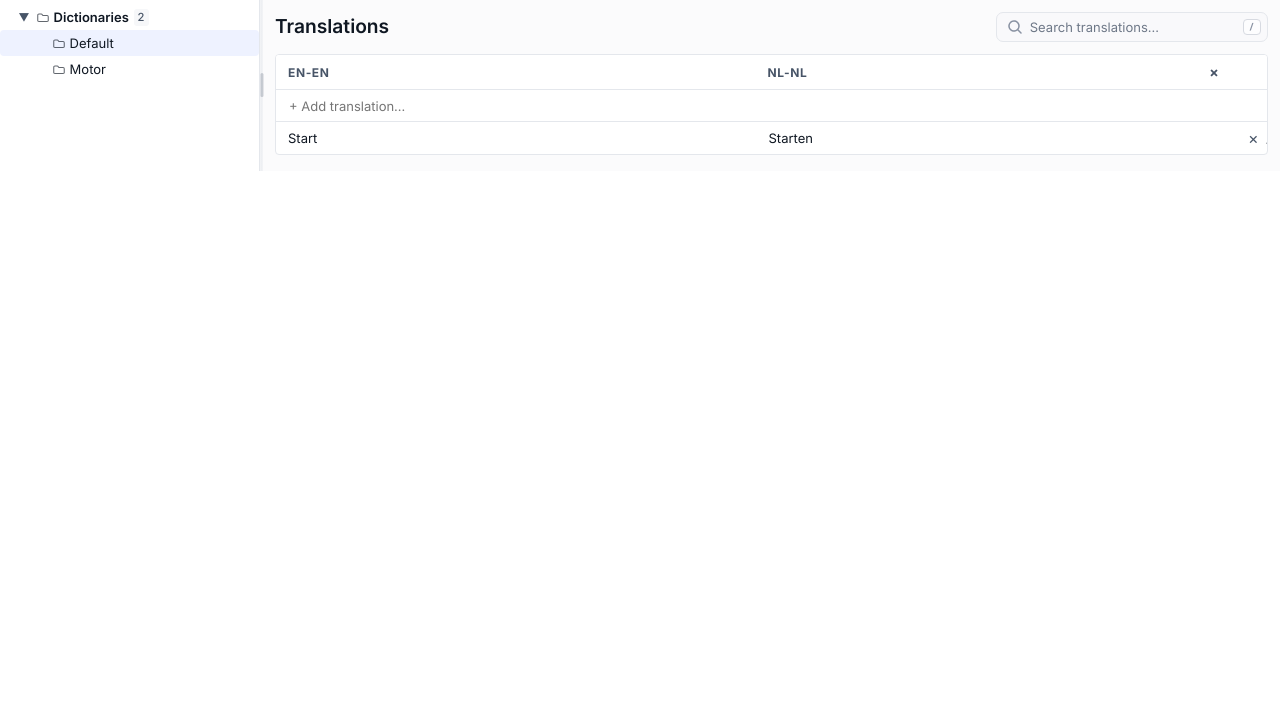
Test: TranslationsView › confirms before deleting a translation key
This screenshot has width=1280, height=720.
Step 1. Click the button titled "Delete translation" in the row of "Starten" → (1253, 138), box [1241, 126, 1265, 150]
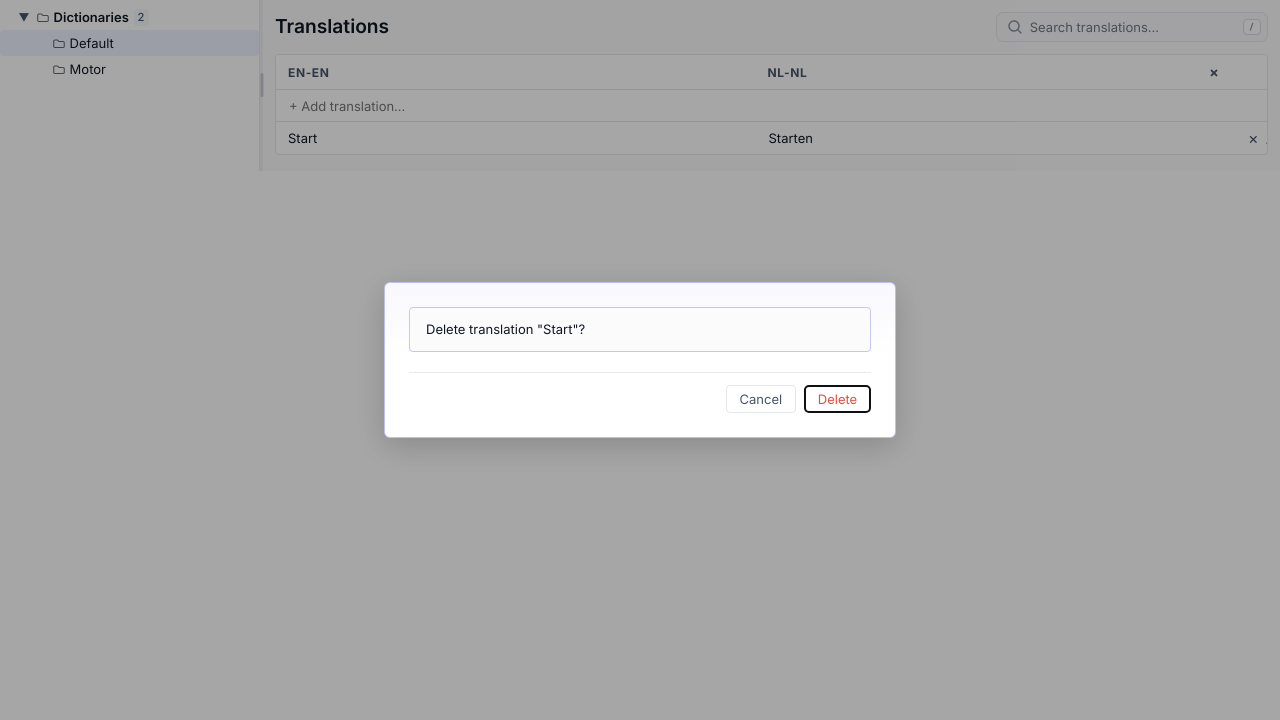
Expected: the text "Delete translation \"Start\"?" is shown, [409, 307, 871, 352]
Step 2. Click the button "Delete" → (838, 399), box [804, 385, 871, 413]
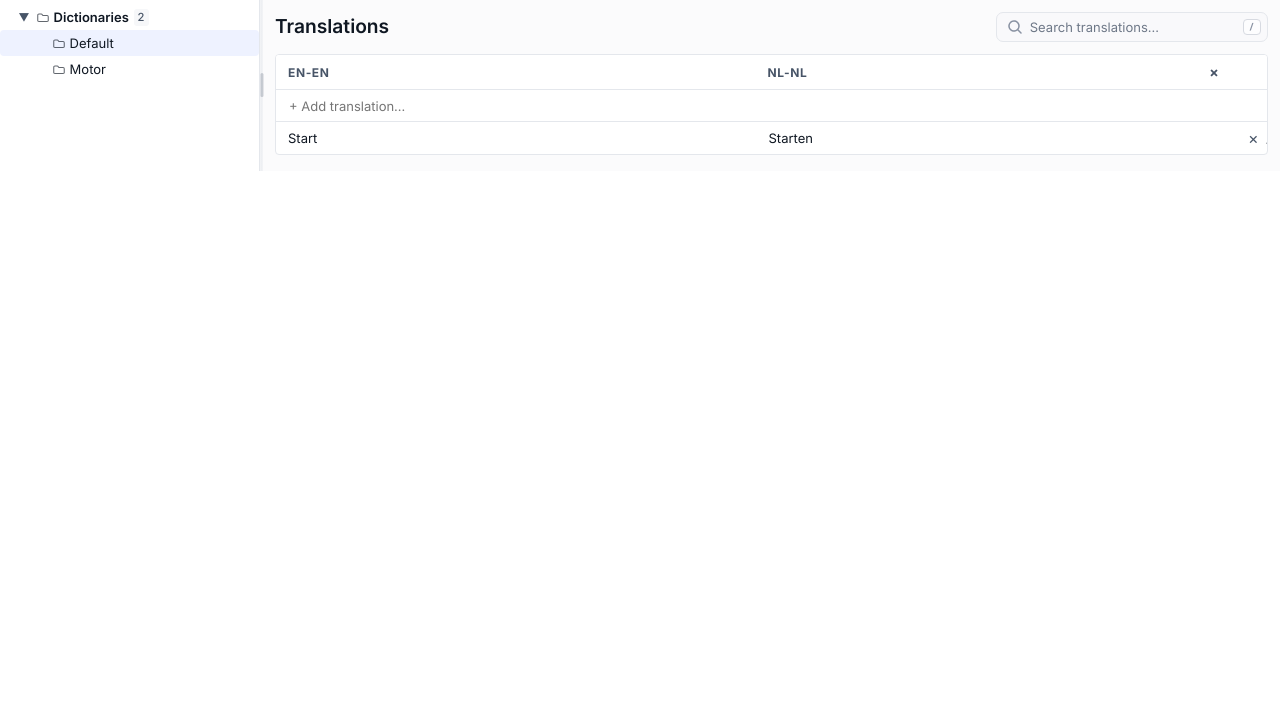
Expected: the element with class "cfg-modal" is gone
